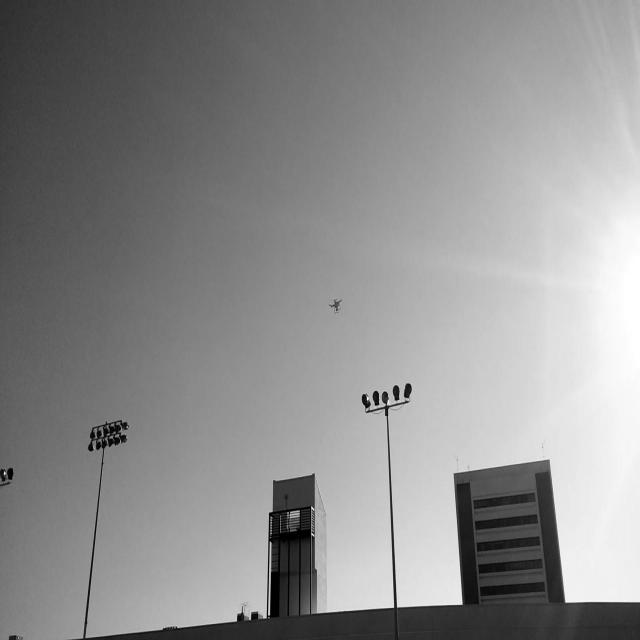drone: (328, 291, 344, 319)
